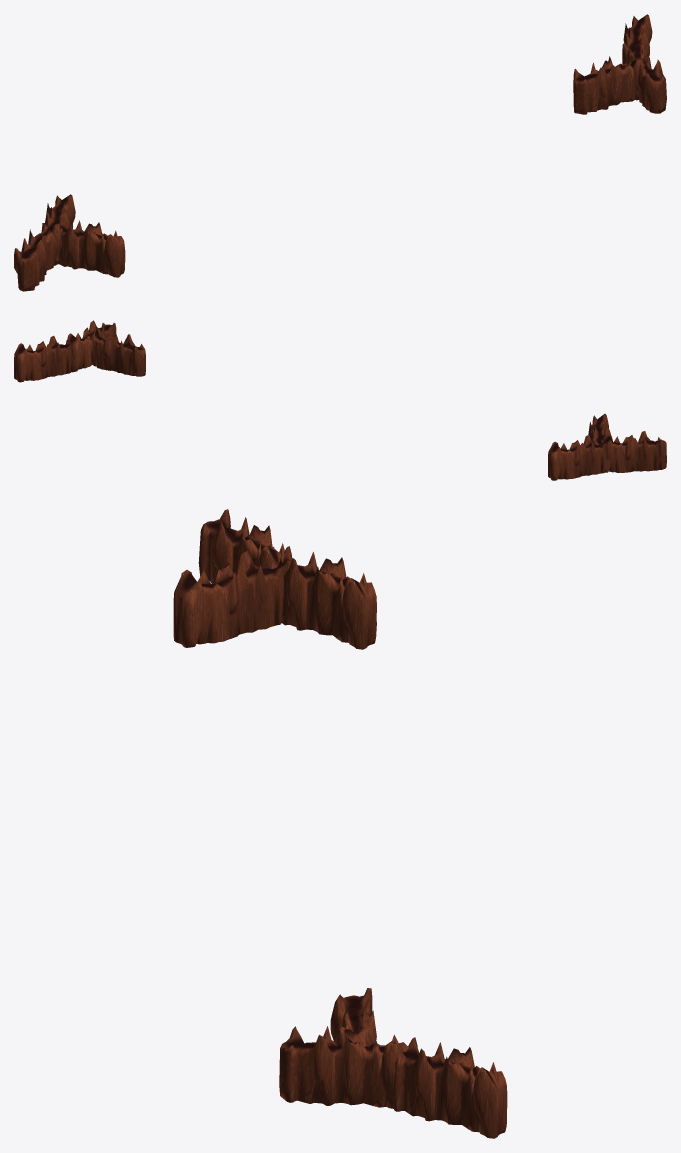
File: LV3Crack.fbx
3 views of the same model, one above another, from view 1: azimuth 30°, elevation 25°; view 2: azimuth 150°, elevation 25°; view 3: azimuth 270°, elevation 25° (orthographic). The views are drawn at different scales.
Visible parts, largest first — view 1: polySurface474; view 2: polySurface474; view 3: polySurface474.
Boxes of the visible parts, x1,y1,x2,y2 form: polySurface474: (14, 14, 666, 291); polySurface474: (14, 320, 666, 480); polySurface474: (173, 509, 507, 1138).
Size of the model in its own units: 248 by 14.07 by 61.55.
